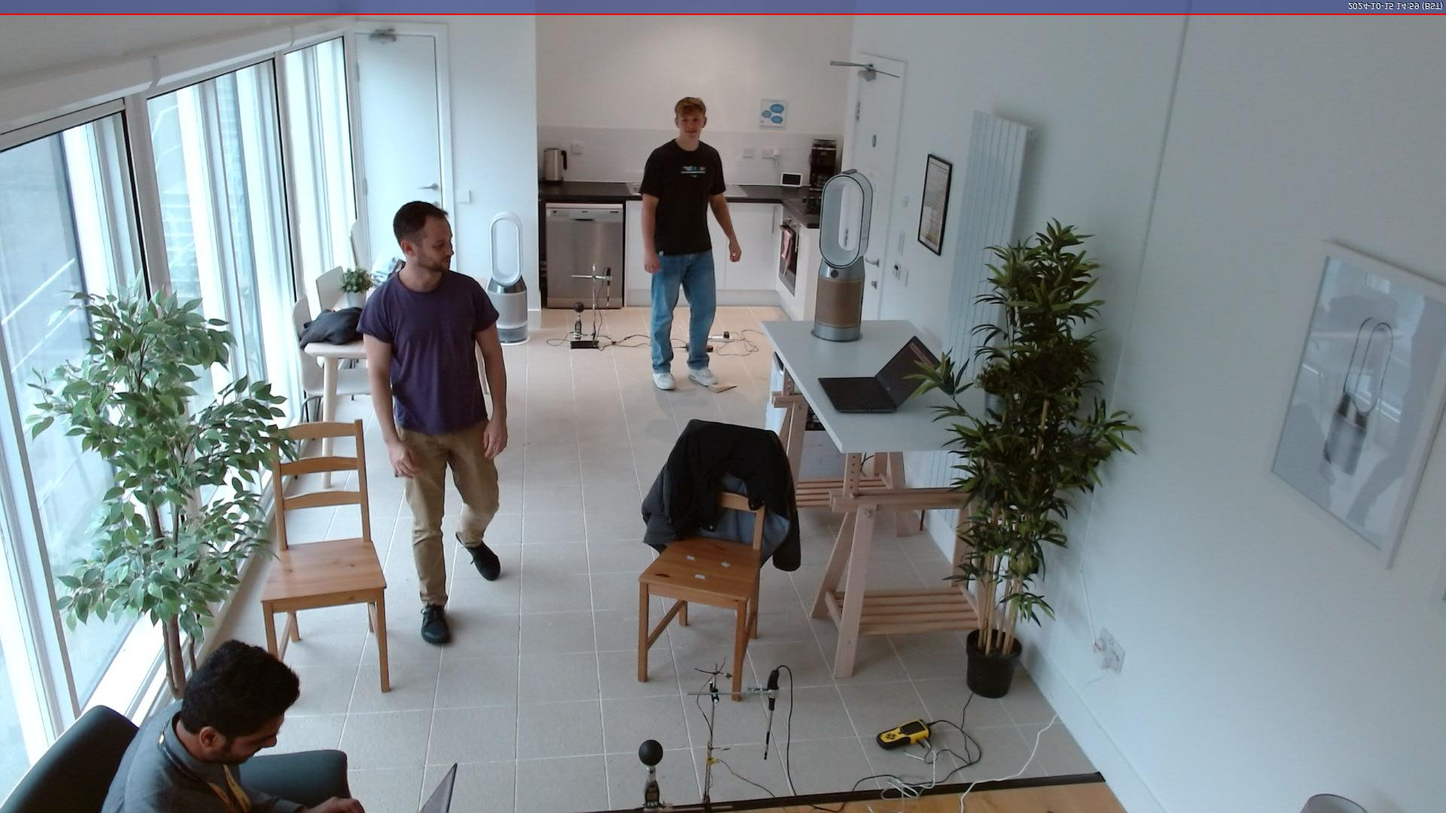long sleeve shirt: (97, 696, 309, 813)
short sleeve shirt: (357, 266, 503, 431), (637, 138, 729, 253)
trousers: (396, 413, 501, 608), (648, 246, 717, 371)
